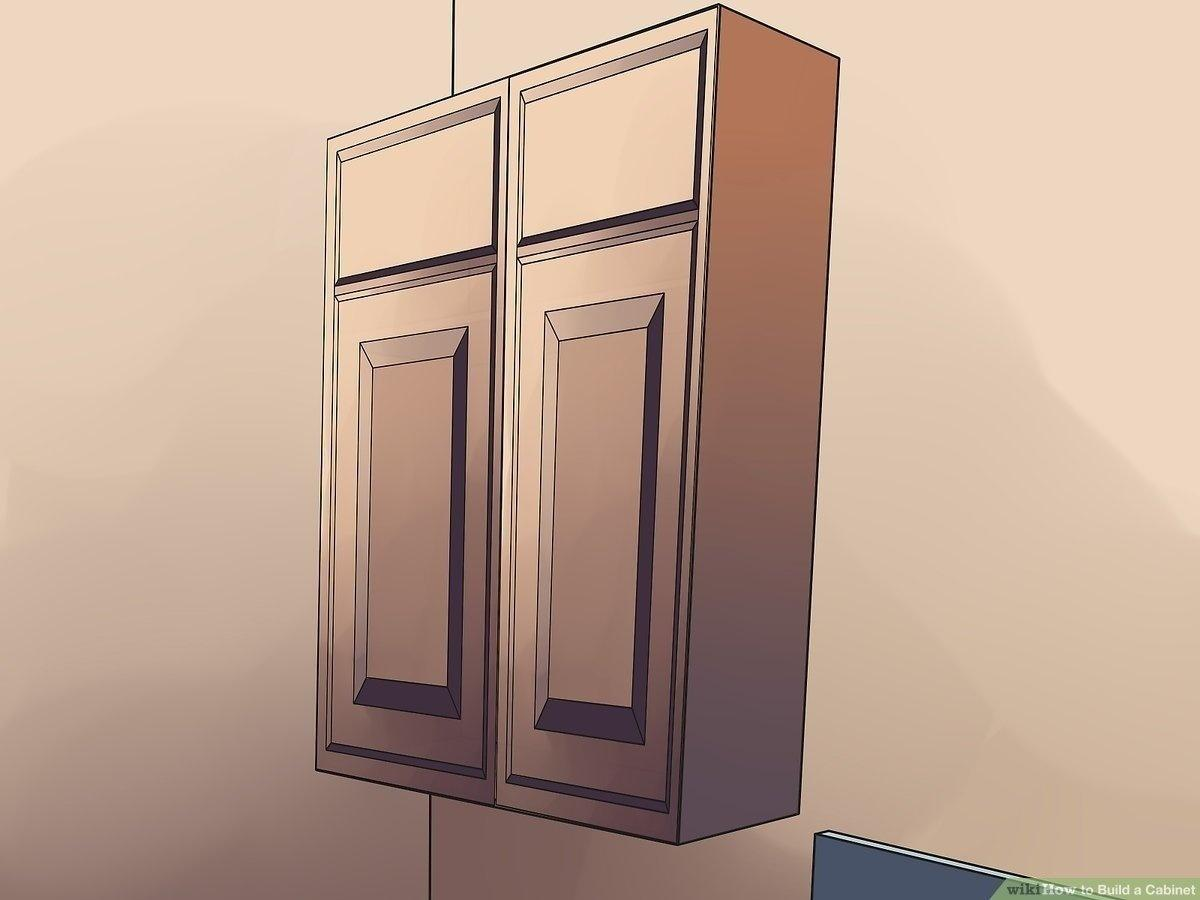cabinet_door: (509, 244, 692, 811), (324, 287, 496, 810), (517, 44, 710, 236), (324, 121, 500, 280)
